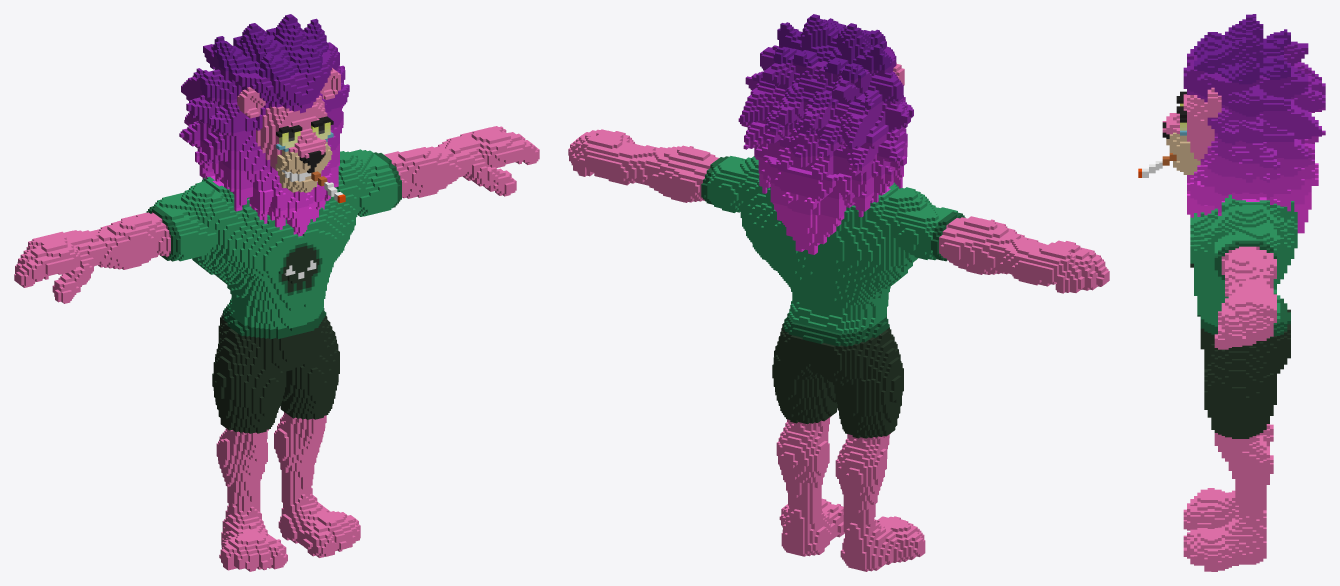
Rendered from 725-B-9R0szR.glb.
3 renders of one model, left to right at view 1: azimuth 30°, elevation 25°; view 2: azimuth 150°, elevation 25°; view 3: azimuth 270°, elevation 25°, orthographic. The views are drawn at different scales.
Visible parts, largest first — view 1: cigarette; view 2: cigarette; view 3: cigarette.
Boxes of the visible parts, x1,y1,x2,y2 form: cigarette: [14, 14, 539, 571]; cigarette: [568, 14, 1109, 571]; cigarette: [1138, 14, 1325, 571].
Bounding box in the file's own units: 17.2 × 16.5 × 5.4.
Materials: 5 (5 with a texture image).
